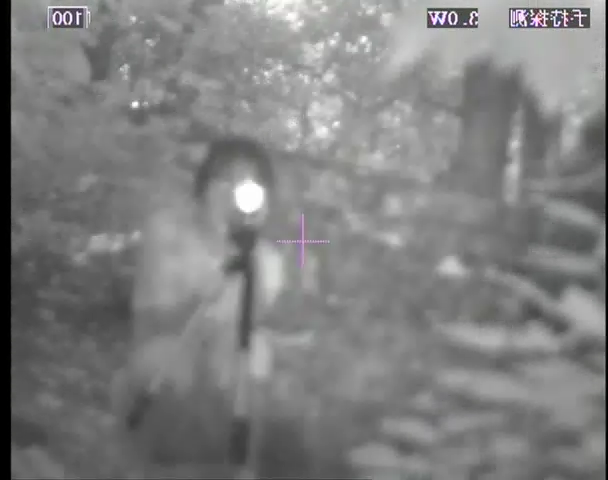my: (232, 178, 265, 212)
